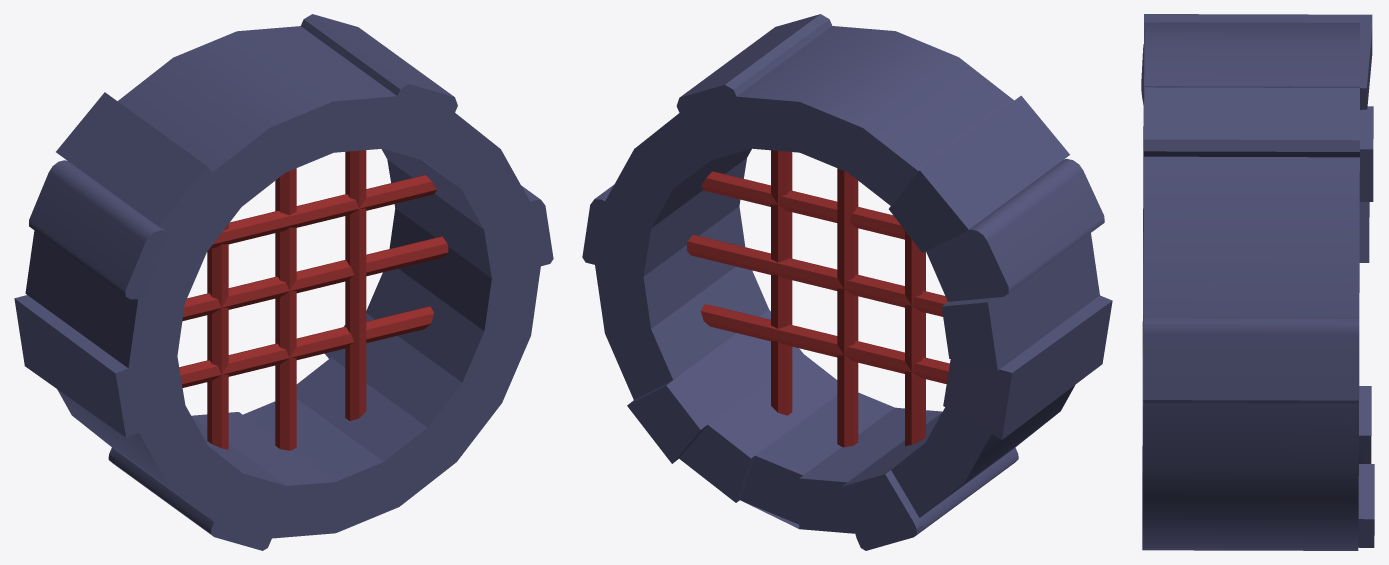
Rendered from Tunel.fbx.
The picture shows the model from 3 angles, left to right: view 1: azimuth 30°, elevation 25°; view 2: azimuth 150°, elevation 25°; view 3: azimuth 270°, elevation 25°; orthographic projection. The views are drawn at different scales.
Parts seen in each view (by area): view 1: pCylinder1, pCylinder5, pCylinder3, pCylinder7, pCylinder11, pCylinder9, pCylinder6; view 2: pCylinder1, pCylinder3, pCylinder7, pCylinder11, pCylinder5, pCylinder9, pCylinder6; view 3: pCylinder1.
Boxes of the visible parts, left/top/right/bottom form: pCylinder1: left=14, top=14, right=553, bottom=550; pCylinder5: left=345, top=150, right=366, bottom=420; pCylinder3: left=275, top=168, right=296, bottom=450; pCylinder7: left=182, top=236, right=448, bottom=321; pCylinder11: left=179, top=306, right=433, bottom=387; pCylinder9: left=209, top=175, right=436, bottom=248; pCylinder6: left=207, top=224, right=228, bottom=449; pCylinder1: left=582, top=14, right=1112, bottom=550; pCylinder3: left=837, top=168, right=858, bottom=447; pCylinder7: left=687, top=235, right=947, bottom=316; pCylinder11: left=701, top=304, right=949, bottom=383; pCylinder5: left=771, top=150, right=792, bottom=415; pCylinder9: left=701, top=171, right=904, bottom=239; pCylinder6: left=905, top=231, right=925, bottom=446; pCylinder1: left=1141, top=14, right=1374, bottom=550.
Size of the model in its own units: 2.12 by 2 by 0.8781.
